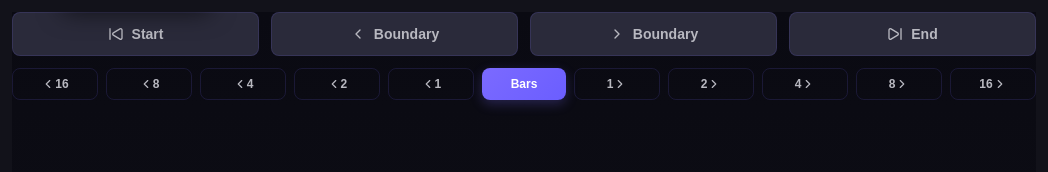
Test: NavigationControls › Jump mode › toggles between bars and beats mode
// Click to toggle
Click the button "Bars".
click(524, 84)  # box [482,68,566,100]
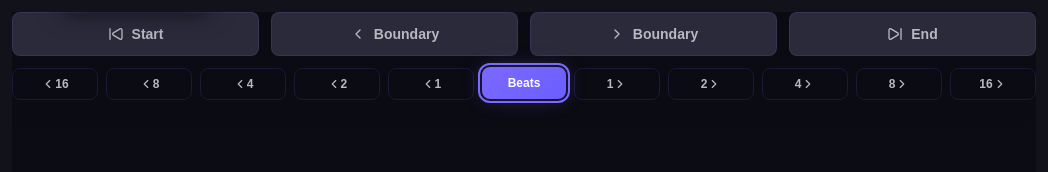
Now the button "Beats" is shown
// Click to toggle back
Click the button "Beats".
click(524, 83)  # box [482,67,566,99]
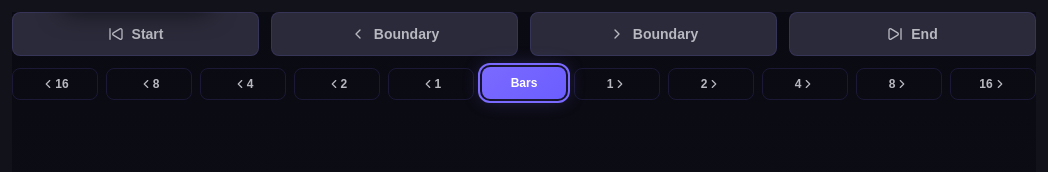
Now the button "Bars" is shown, box [482,67,566,99]
